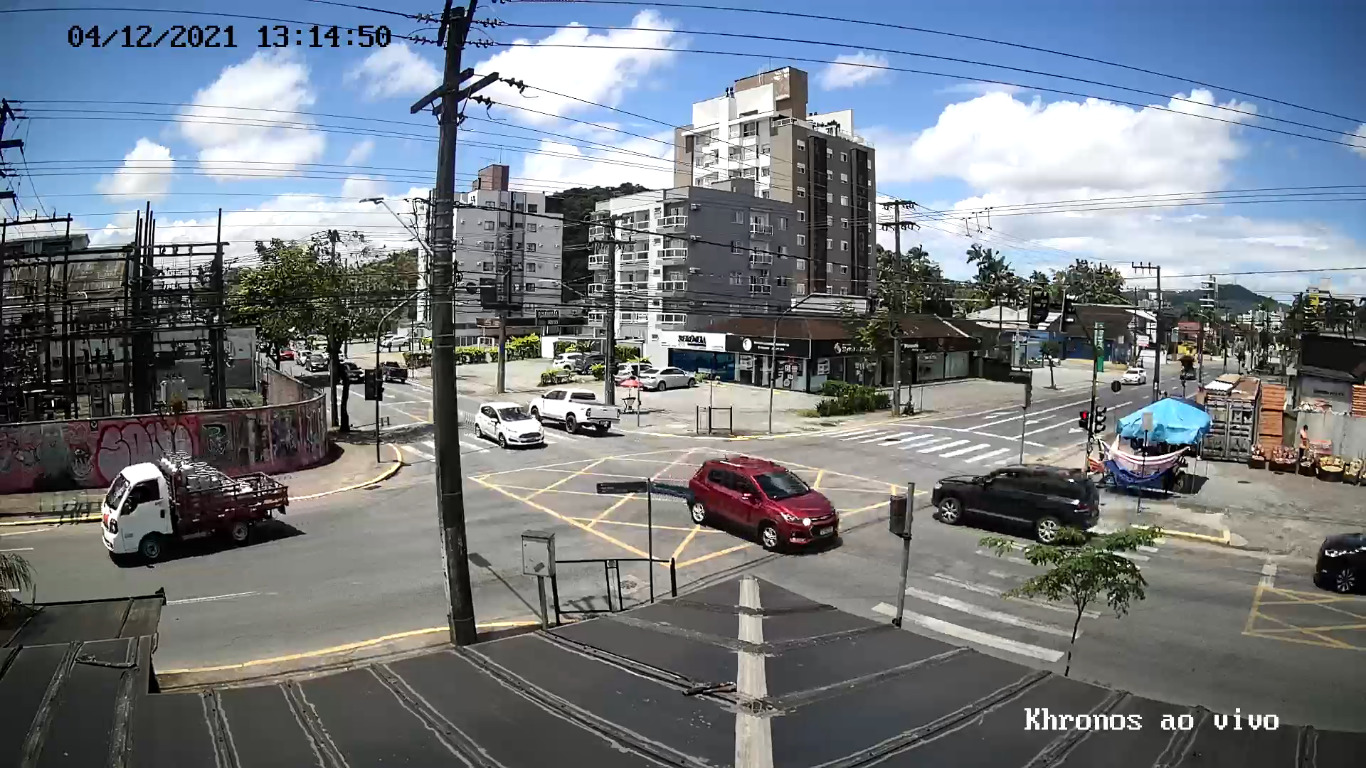car: (686, 454, 840, 555), (931, 463, 1101, 543), (474, 400, 545, 450)
